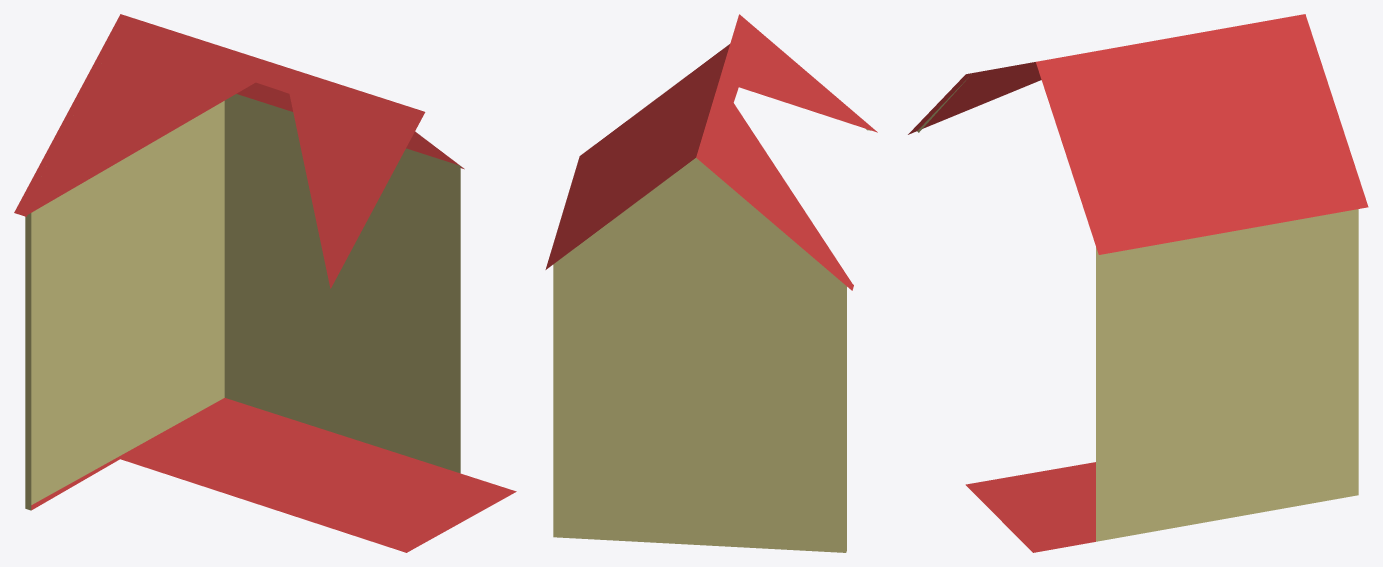
3 renders of one model, left to right at view 1: azimuth 30°, elevation 25°; view 2: azimuth 150°, elevation 25°; view 3: azimuth 270°, elevation 25°, orthographic. The views are drawn at different scales.
Bounding box in the file's own units: 14.26 × 14.97 × 15.02.
